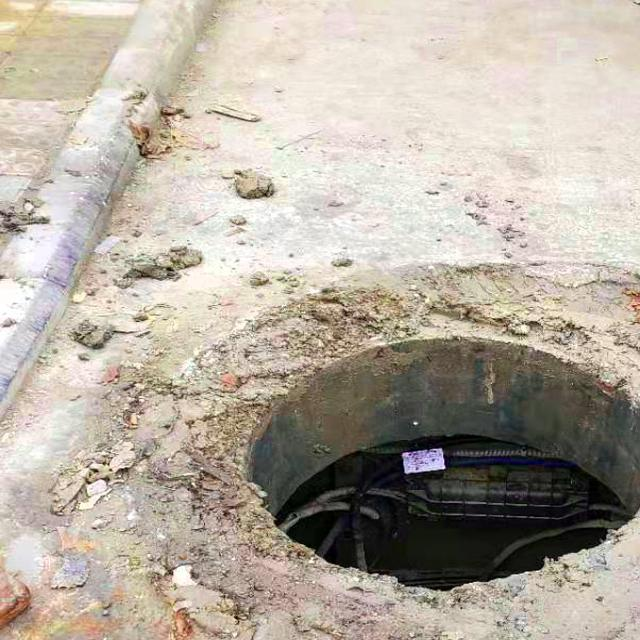lose: (248, 329, 640, 589)
